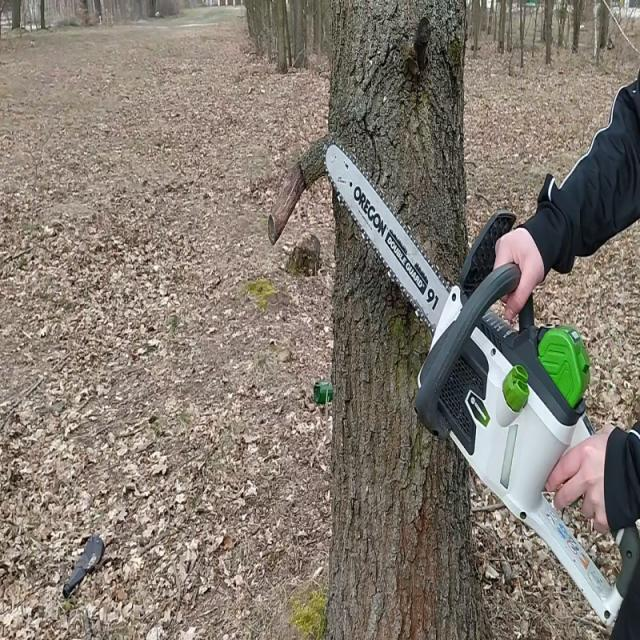Chainsaw: (317, 137, 640, 639)
